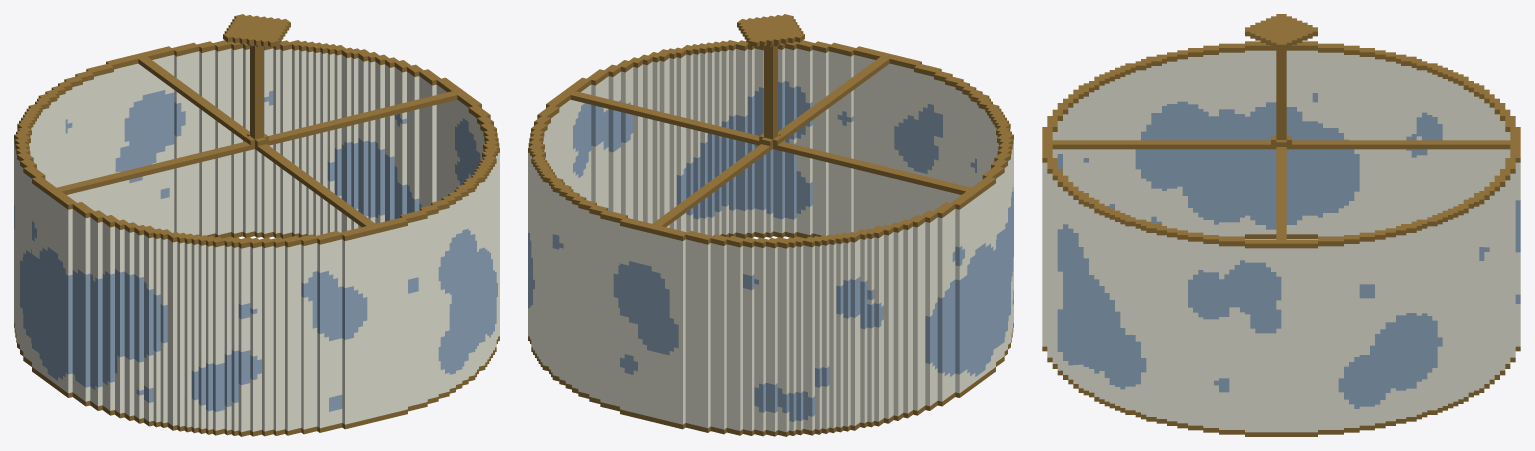
File: lustre.obj
3 views of the same model, side by side, from view 1: azimuth 30°, elevation 25°; view 2: azimuth 150°, elevation 25°; view 3: azimuth 270°, elevation 25° (orthographic).
Size of the model in its own units: 92 by 65 by 92.
Materials: 1 (1 with a texture image).
